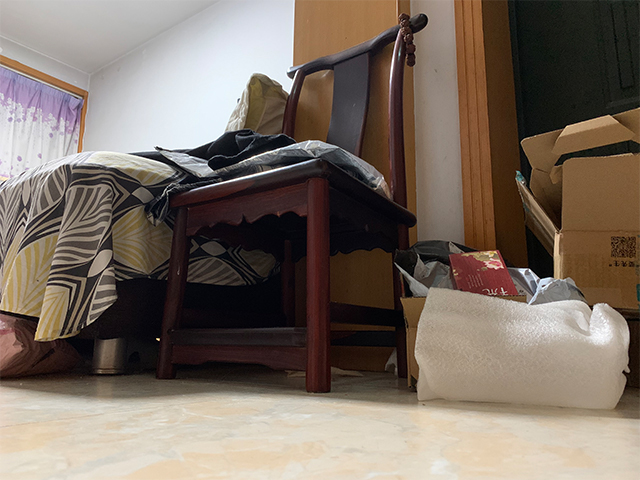sofa: (1, 71, 290, 379)
stool: (155, 10, 428, 394)
